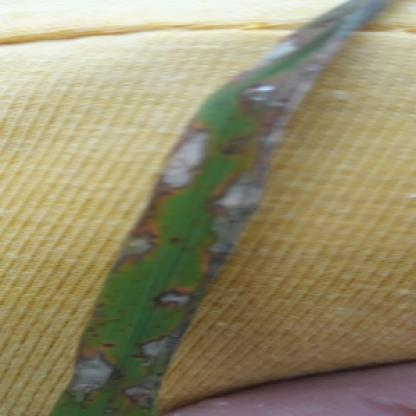Rice blast: (244, 21, 352, 134), (150, 111, 218, 202), (126, 320, 192, 413), (104, 219, 162, 281), (66, 342, 118, 409), (143, 281, 204, 317)
